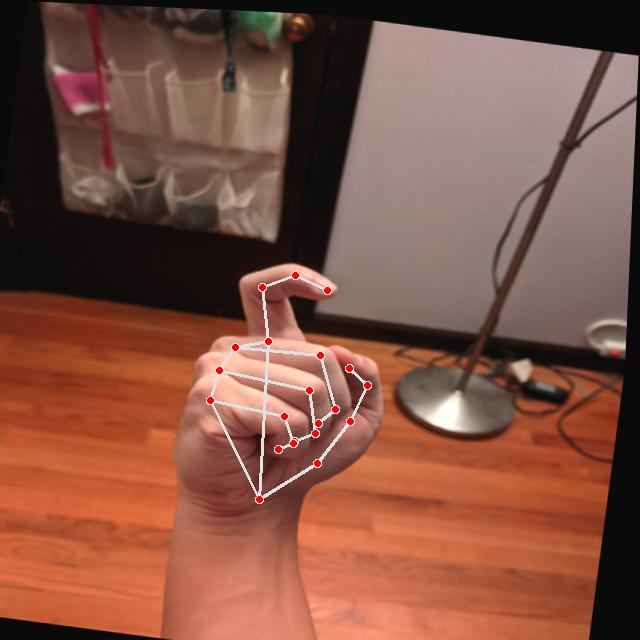X: (164, 241, 411, 529)
